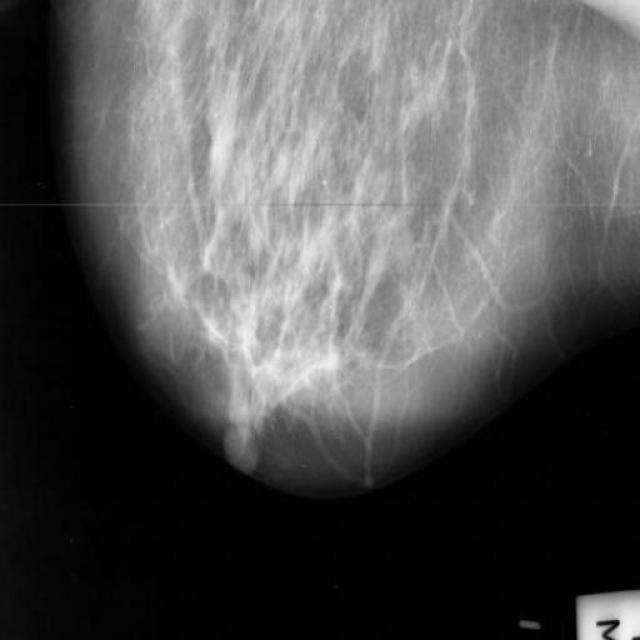cancer: (272, 285, 374, 417)
